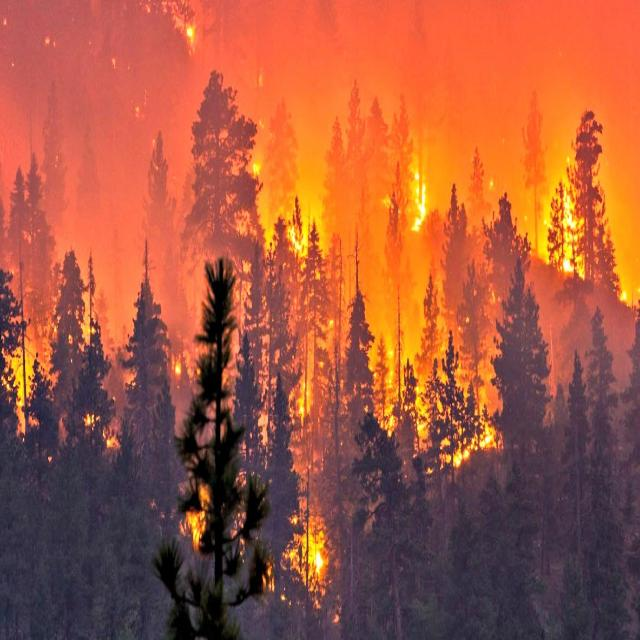Fire: (545, 167, 585, 279), (1, 341, 42, 431), (406, 151, 434, 232), (283, 197, 318, 259), (298, 521, 329, 591)
